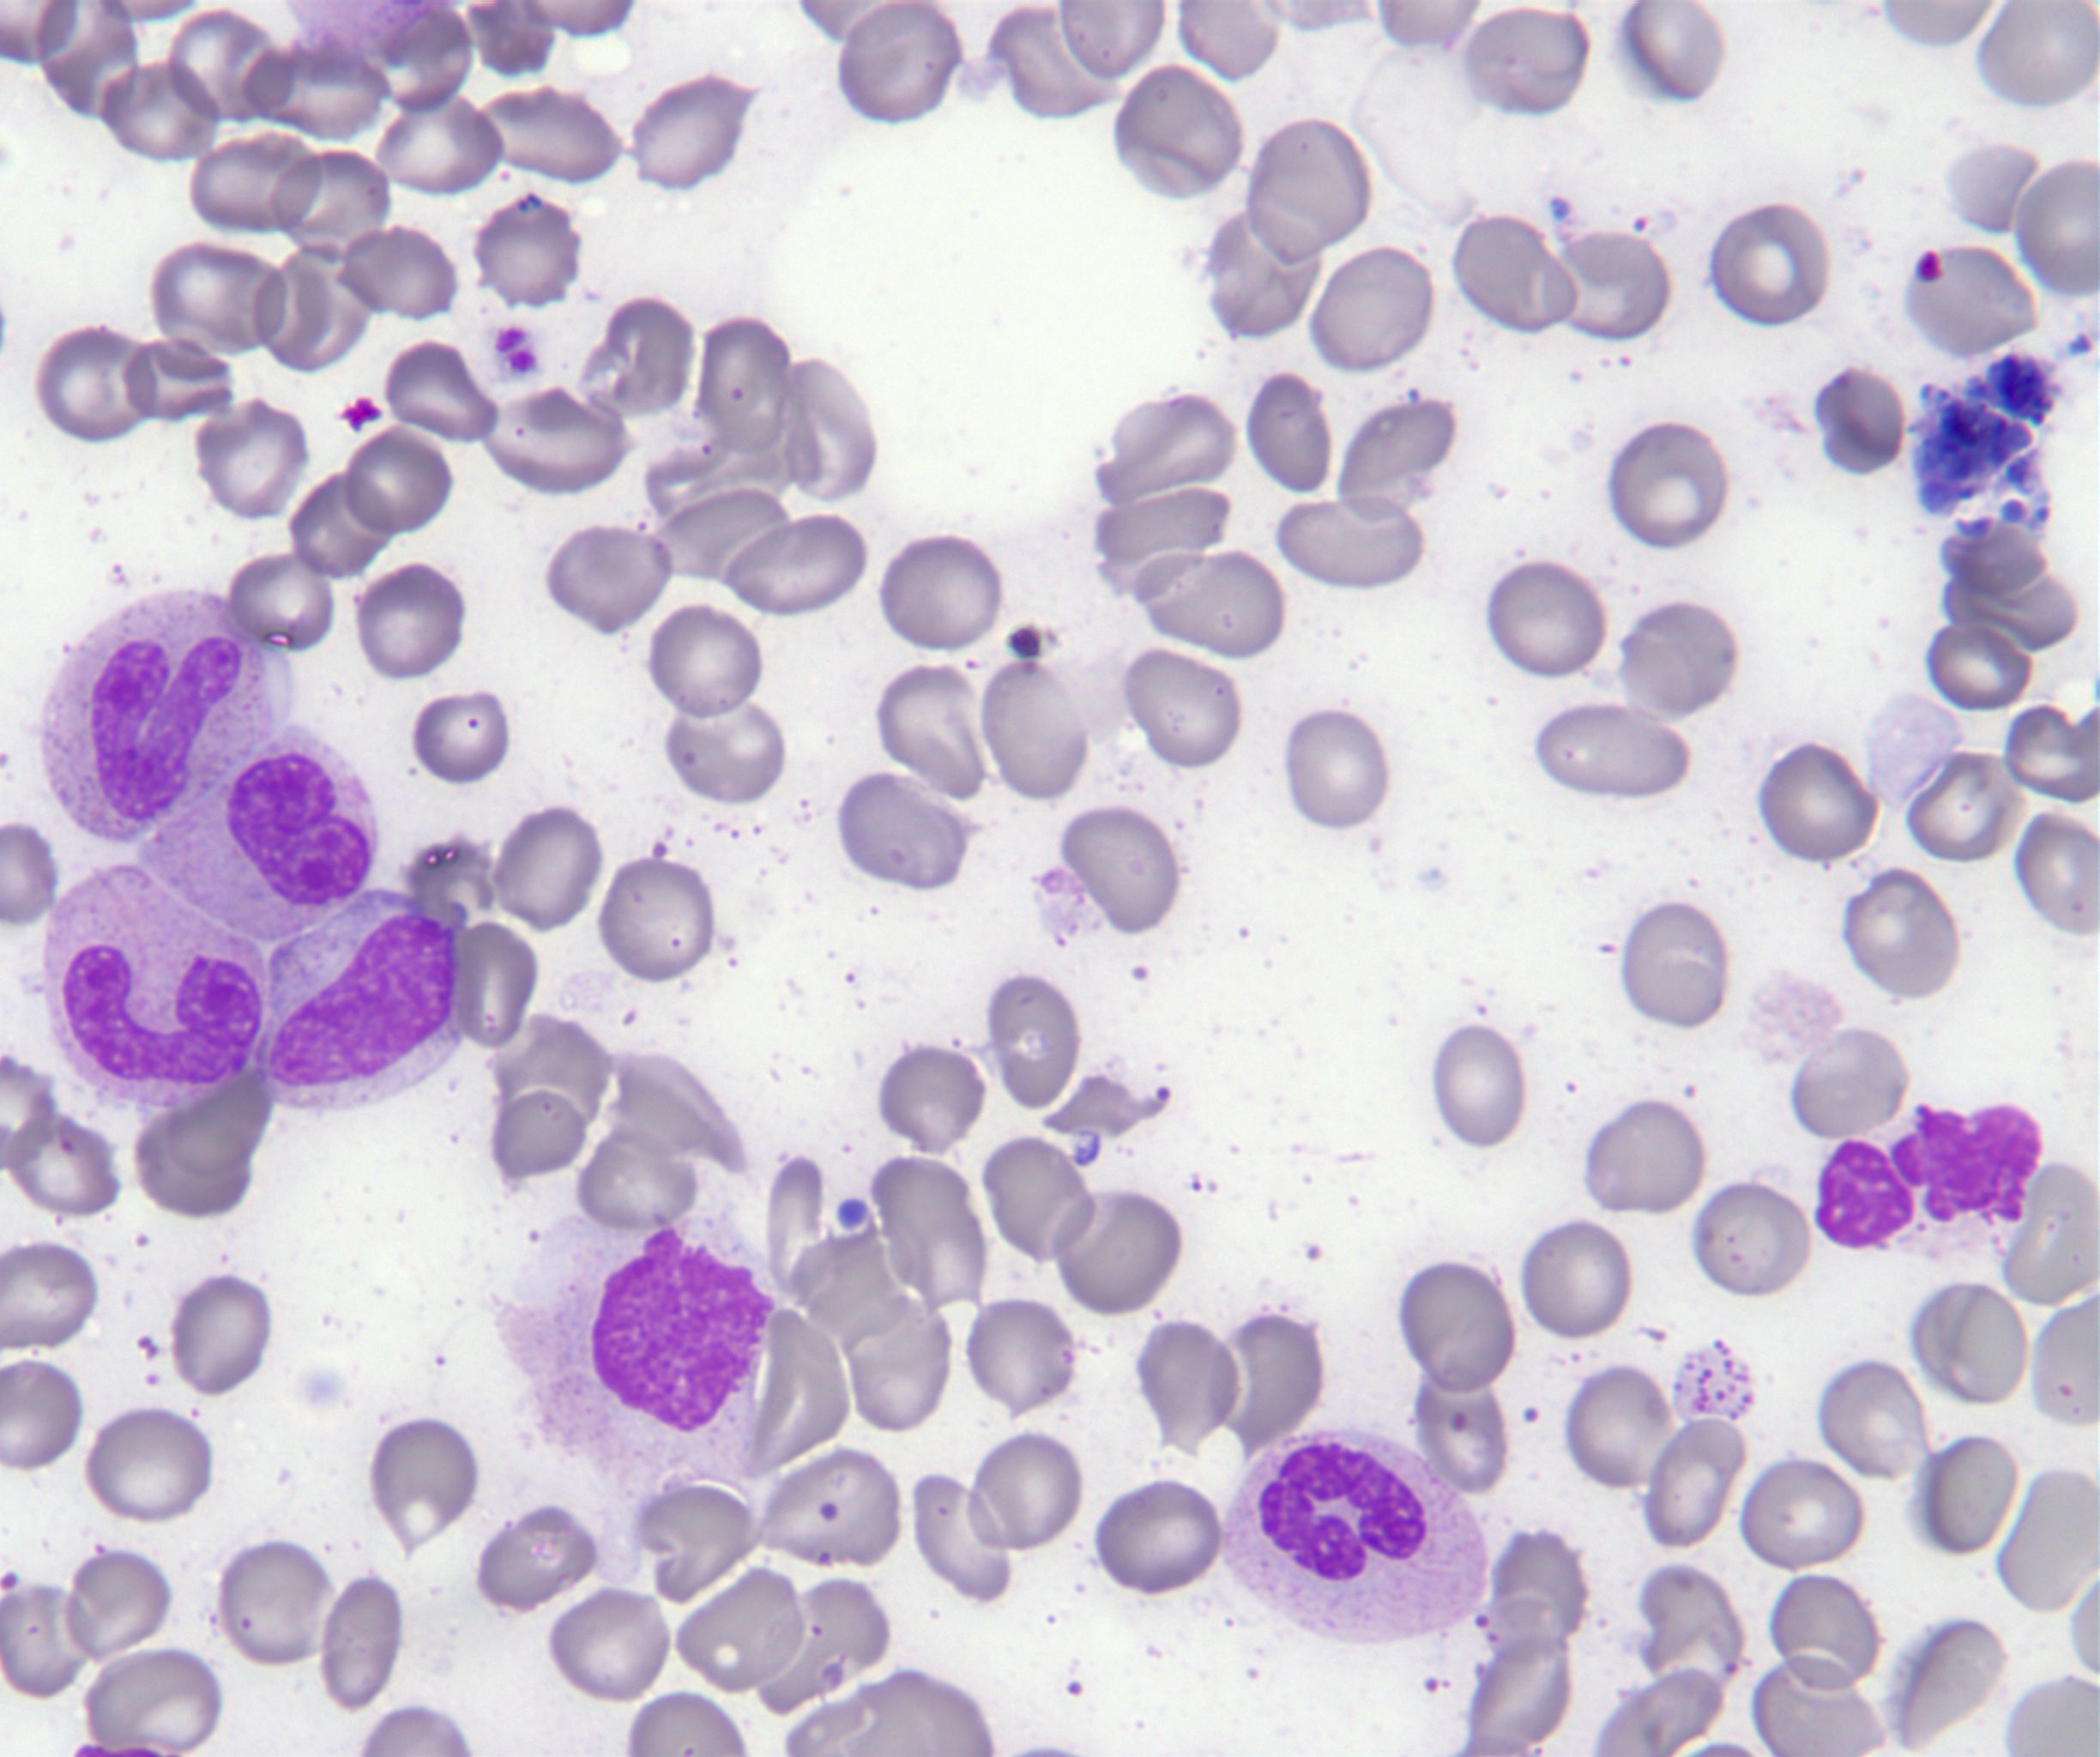4: (134, 726, 377, 944), (253, 890, 464, 1108)
5: (44, 591, 291, 844), (44, 865, 263, 1106)
6: (1219, 1431, 1488, 1644)
x: (494, 1211, 776, 1494), (1816, 1101, 2042, 1256)
